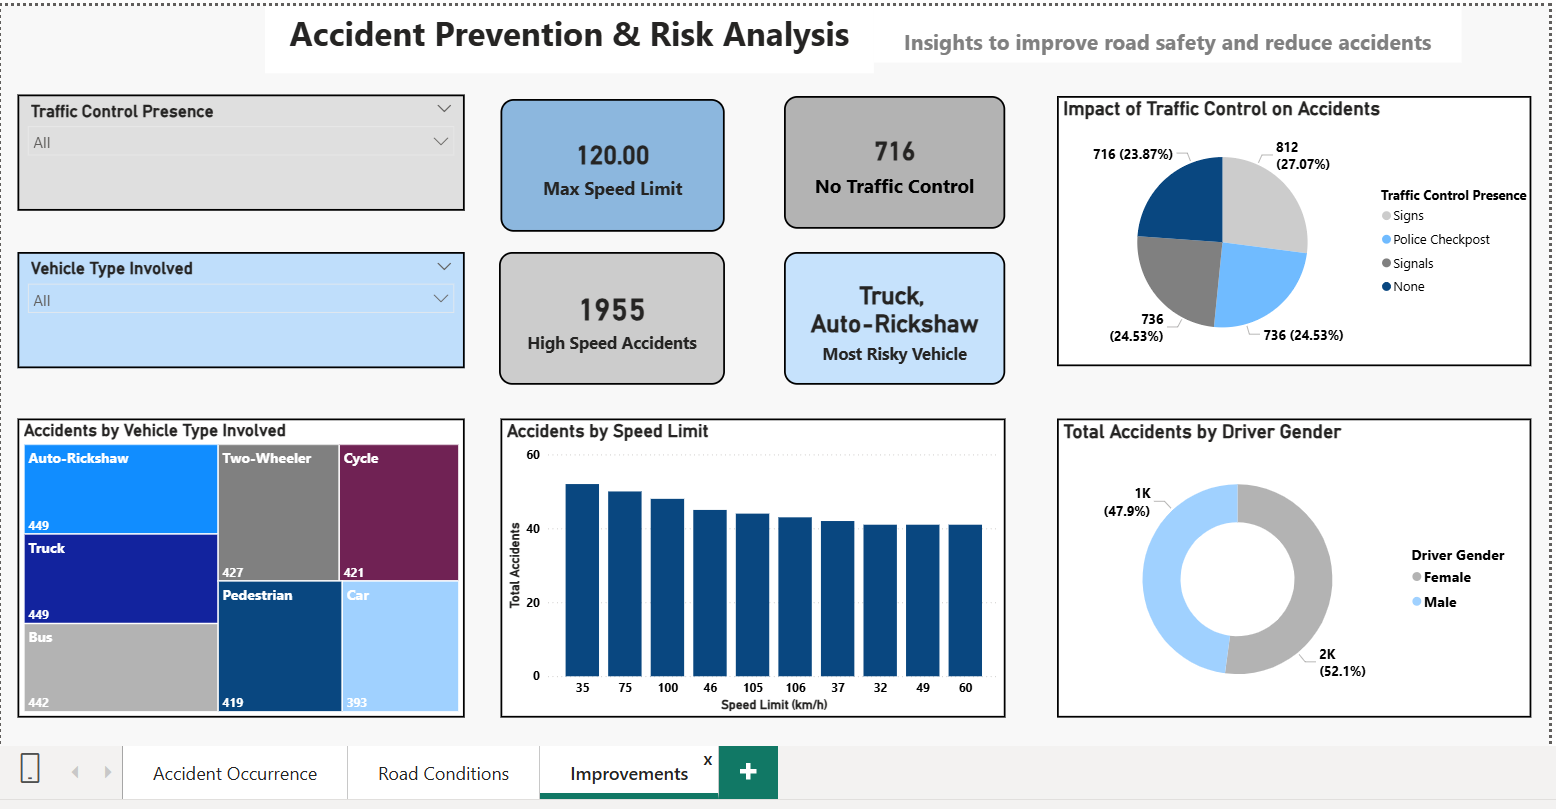

The page's visual inventory and layout, read from the dashboard file:
{"tool":"powerbi","page":{"name":"Improvements","canvas":[1750,1800],"ordinal":2},"visuals":[{"type":"clusteredColumnChart","title":"Accidents by Speed Limit ","fields":{"Category":["accident_prediction_india.Speed Limit (km/h)"],"Y":["accident_prediction_india.Total Accidents"]},"box":[563.8,465.5,570.7,337.9],"z":0},{"type":"pieChart","title":"Impact of Traffic Control on Accidents","fields":{"Category":["accident_prediction_india.Traffic Control Presence"],"Y":["accident_prediction_india.Total Accidents"]},"box":[1193.1,101.7,536.2,305.2],"z":1000},{"type":"donutChart","fields":{"Y":["accident_prediction_india.Total Accidents"],"Category":["accident_prediction_india.Driver Gender"]},"box":[1193.1,465.5,536.2,337.9],"z":2000},{"type":"treemap","title":" Accidents by Vehicle Type Involved","fields":{"Values":["accident_prediction_india.Total Accidents"],"Group":["accident_prediction_india.Vehicle Type Involved"]},"box":[19,465.5,505.2,337.9],"z":3000},{"type":"slicer","fields":{"Values":["accident_prediction_india.Traffic Control Presence"]},"box":[19,100,505.2,131],"z":4000},{"type":"slicer","fields":{"Values":["accident_prediction_india.Vehicle Type Involved"]},"box":[19,277.6,505.2,131],"z":5000},{"type":"textbox","box":[298.3,0,687.9,75.9],"z":6000},{"type":"card","fields":{"Values":["accident_prediction_india.Max Speed Limit"]},"box":[563.8,105.2,253.4,150],"z":7000},{"type":"card","fields":{"Values":["accident_prediction_india.No Traffic Control"]},"box":[884.5,101.7,250,150],"z":9000},{"type":"textbox","box":[986.2,0,663.8,63.8],"z":13000},{"type":"card","fields":{"Values":["accident_prediction_india.High Speed Accidents"]},"box":[562.1,277.6,255.2,150],"z":13001},{"type":"card","fields":{"Values":["accident_prediction_india.Most Risky Vehicle"]},"box":[884.5,277.6,250,150],"z":13002}]}

Visuals, with their boxes on the page's 1750x1800 design canvas (x1, y1, x2, y2). These are canvas units, not pixel positions in the 1556x809 screenshot, which may show the page scaled, cropped or inside an application window:
"Accidents by Speed Limit " clusteredColumnChart: bbox(564, 466, 1134, 803)
"Impact of Traffic Control on Accidents" pieChart: bbox(1193, 102, 1729, 407)
donutChart - accident_prediction_india.Total Accidents x accident_prediction_india.Driver Gender: bbox(1193, 466, 1729, 803)
" Accidents by Vehicle Type Involved" treemap: bbox(19, 466, 524, 803)
slicer - accident_prediction_india.Traffic Control Presence: bbox(19, 100, 524, 231)
slicer - accident_prediction_india.Vehicle Type Involved: bbox(19, 278, 524, 409)
textbox: bbox(298, 0, 986, 76)
card - accident_prediction_india.Max Speed Limit: bbox(564, 105, 817, 255)
card - accident_prediction_india.No Traffic Control: bbox(884, 102, 1134, 252)
textbox: bbox(986, 0, 1650, 64)
card - accident_prediction_india.High Speed Accidents: bbox(562, 278, 817, 428)
card - accident_prediction_india.Most Risky Vehicle: bbox(884, 278, 1134, 428)
